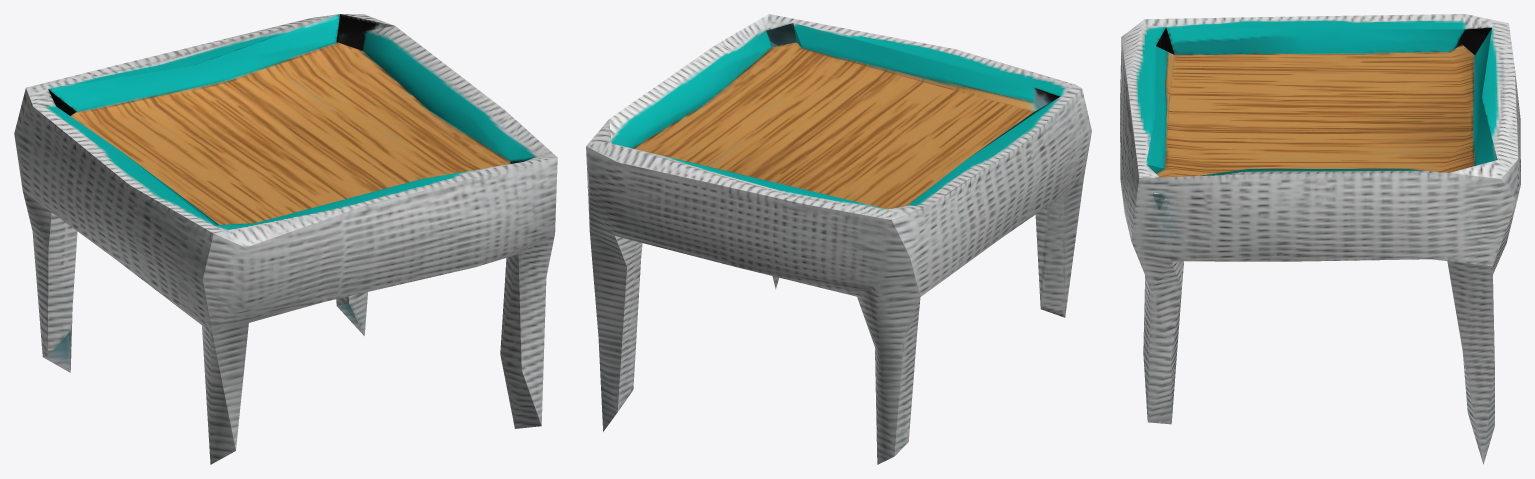
File: poolhouse-tray-table.glb
3 views of the same model, side by side, from view 1: azimuth 30°, elevation 25°; view 2: azimuth 150°, elevation 25°; view 3: azimuth 270°, elevation 25° (orthographic). The views are drawn at different scales.
Visible parts, largest first — view 1: geometry_0; view 2: geometry_0; view 3: geometry_0.
Boxes of the visible parts, left/top/right/bottom form: geometry_0: left=14, top=14, right=557, bottom=464; geometry_0: left=586, top=14, right=1091, bottom=464; geometry_0: left=1120, top=14, right=1520, bottom=464.
Size of the model in its own units: 0.9999 by 0.8193 by 1.
Materials: 1 (1 with a texture image).
